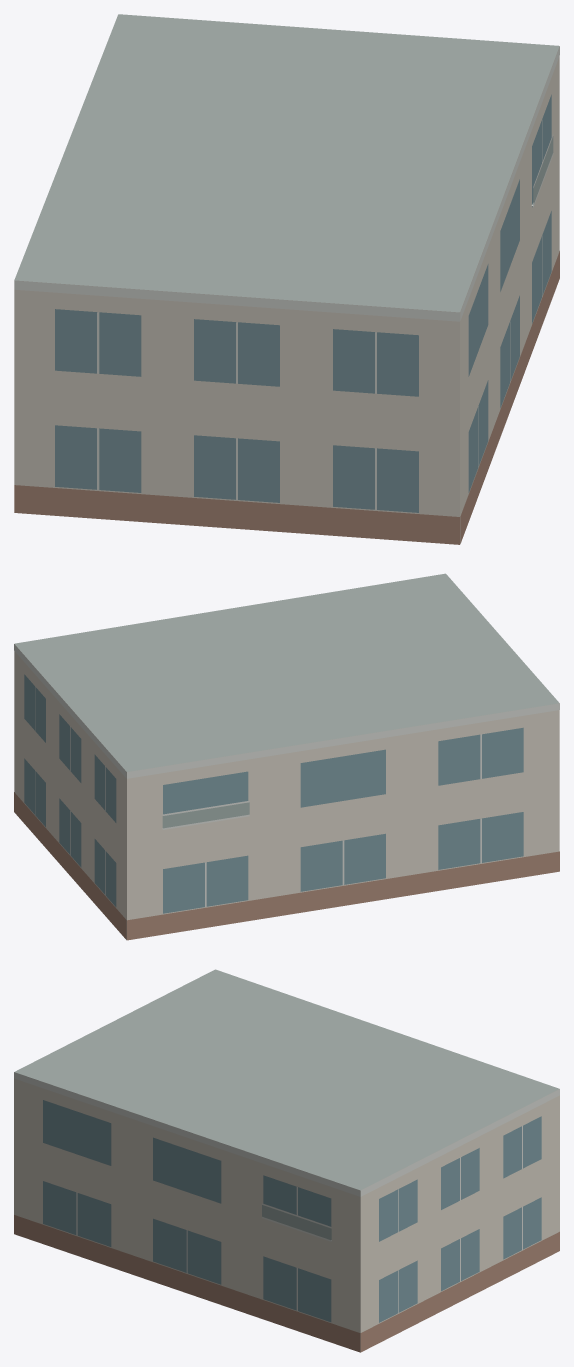
Rendered from survey-upis-32819050.glb.
The picture shows the model from 3 angles, top to bottom: view 1: azimuth 30°, elevation 25°; view 2: azimuth 150°, elevation 25°; view 3: azimuth 270°, elevation 25°; orthographic projection. The views are drawn at different scales.
Parts seen in each view (by area): view 1: survey-upis-32819050.tmp; view 2: survey-upis-32819050.tmp; view 3: survey-upis-32819050.tmp.
Boxes of the visible parts, x1=… form: survey-upis-32819050.tmp: x1=14, y1=14, x2=559, y2=544; survey-upis-32819050.tmp: x1=14, y1=573, x2=559, y2=940; survey-upis-32819050.tmp: x1=14, y1=969, x2=559, y2=1352.
Size of the model in its own units: 17.85 by 6.1 by 18.62.
